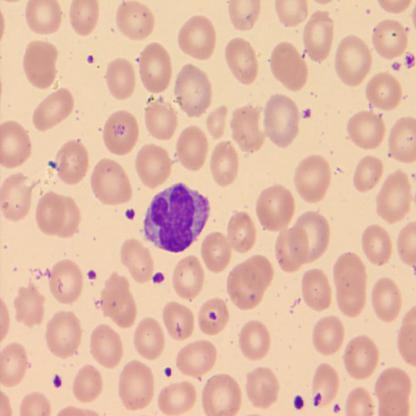Monocyte: (142, 180, 210, 254)
